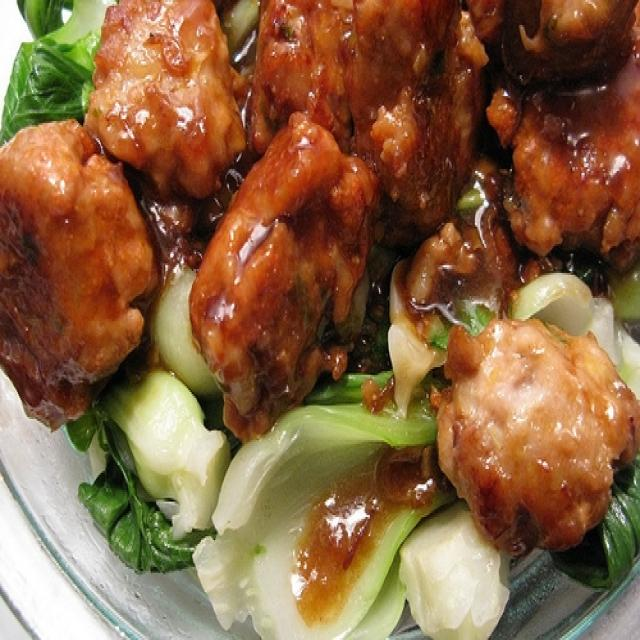猪肉菜式: (15, 21, 621, 596)
